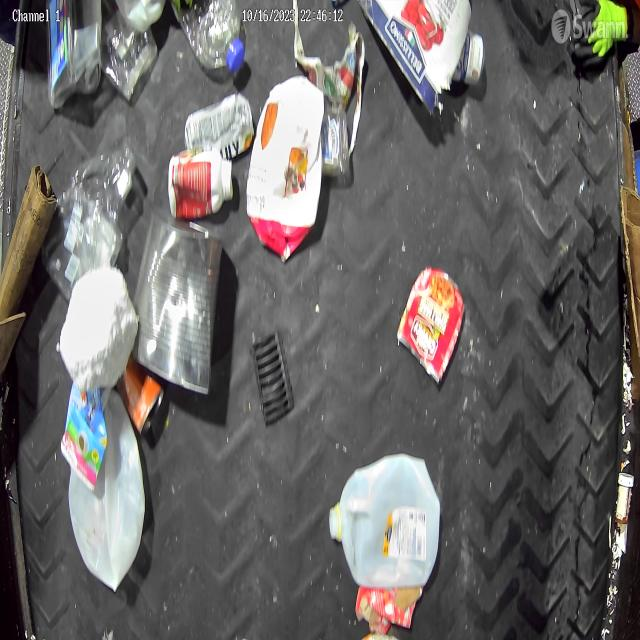can: (132, 208, 224, 396), (397, 267, 467, 386), (124, 362, 165, 436)
milk_jug: (70, 397, 148, 589), (331, 453, 440, 588)
non_white_jug: (248, 73, 326, 260), (51, 145, 132, 290)
plastic_bottle: (170, 0, 248, 77)
